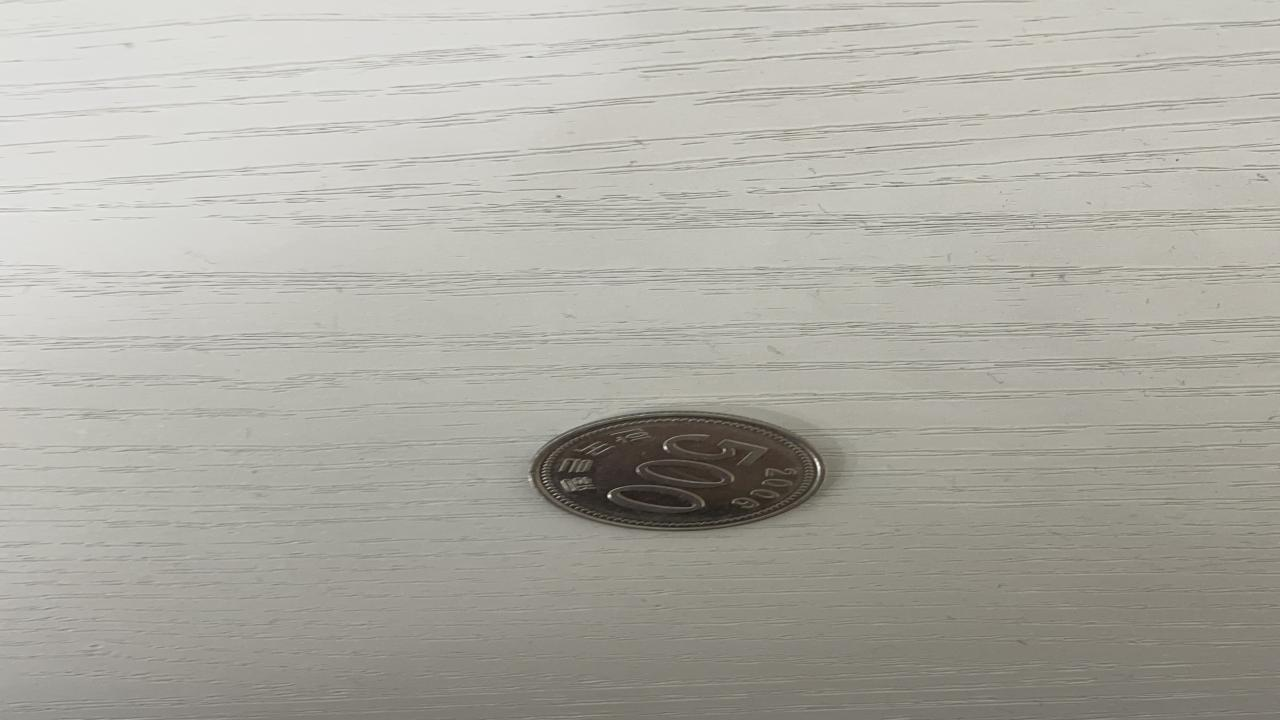coin: (522, 408, 831, 535)
